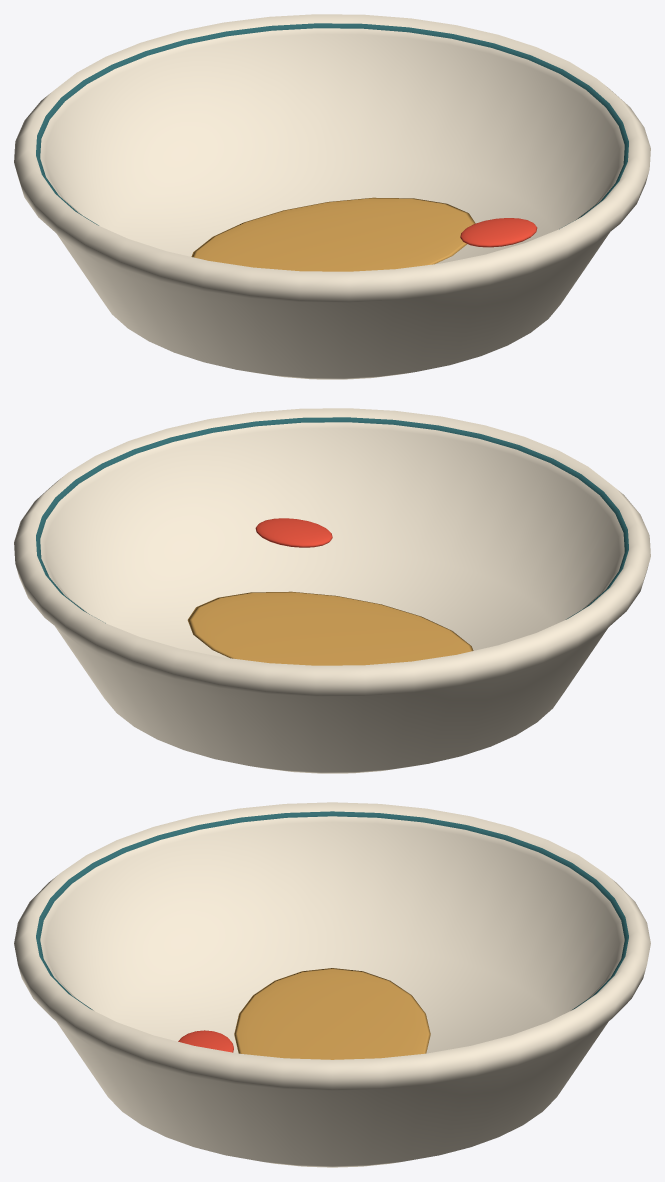
The model's file is dish-dirty.obj.
The picture shows the model from 3 angles, top to bottom: view 1: azimuth 30°, elevation 25°; view 2: azimuth 150°, elevation 25°; view 3: azimuth 270°, elevation 25°; orthographic projection.
Parts seen in each view (by area): view 1: dish-dirty_ivory, dish-dirty_soup, dish-dirty_teal, dish-dirty_tomato; view 2: dish-dirty_ivory, dish-dirty_soup, dish-dirty_teal, dish-dirty_tomato; view 3: dish-dirty_ivory, dish-dirty_soup, dish-dirty_teal, dish-dirty_tomato.
Part boxes in pixels (<box>): dish-dirty_ivory: <box>14,14,650,379</box>; dish-dirty_soup: <box>191,197,475,271</box>; dish-dirty_teal: <box>36,23,628,229</box>; dish-dirty_tomato: <box>460,218,537,247</box>; dish-dirty_ivory: <box>14,408,650,773</box>; dish-dirty_soup: <box>187,591,473,665</box>; dish-dirty_teal: <box>36,417,628,623</box>; dish-dirty_tomato: <box>255,518,332,547</box>; dish-dirty_ivory: <box>14,802,650,1167</box>; dish-dirty_soup: <box>234,968,430,1059</box>; dish-dirty_teal: <box>36,811,628,1009</box>; dish-dirty_tomato: <box>178,1030,233,1052</box>.
Size of the model in its own units: 0.324 by 0.088 by 0.324.
